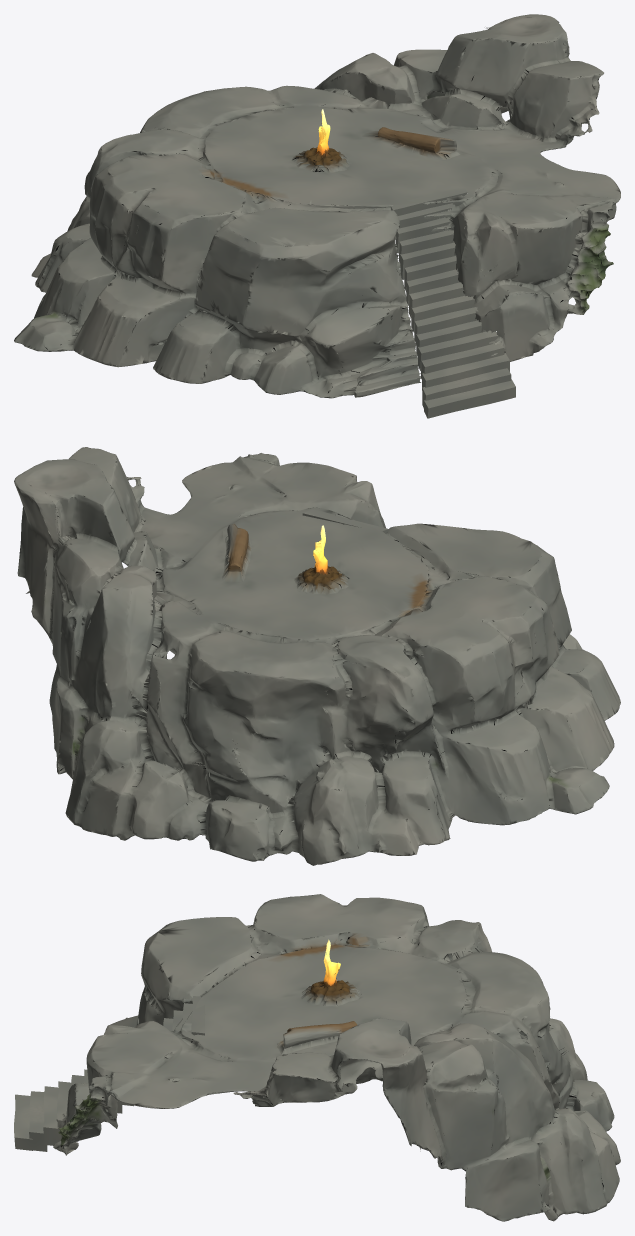
The model's file is rock_cape_weight.glb.
3 views of the same model, one above another, from view 1: azimuth 30°, elevation 25°; view 2: azimuth 150°, elevation 25°; view 3: azimuth 270°, elevation 25° (orthographic). The views are drawn at different scales.
Visible parts, largest first — view 1: Weight_Delivery_Rocks, Weight_Delivery_Stairs; view 2: Weight_Delivery_Rocks; view 3: Weight_Delivery_Rocks, Weight_Delivery_Stairs.
Boxes of the visible parts, x1,y1,x2,y2 form: Weight_Delivery_Rocks: (14, 14, 620, 398); Weight_Delivery_Stairs: (391, 186, 515, 418); Weight_Delivery_Rocks: (14, 447, 620, 865); Weight_Delivery_Rocks: (53, 894, 620, 1221); Weight_Delivery_Stairs: (14, 996, 204, 1151).
Bounding box in the file's own units: 1.23 × 0.4813 × 1.15.
Materials: 5 (5 with a texture image).
